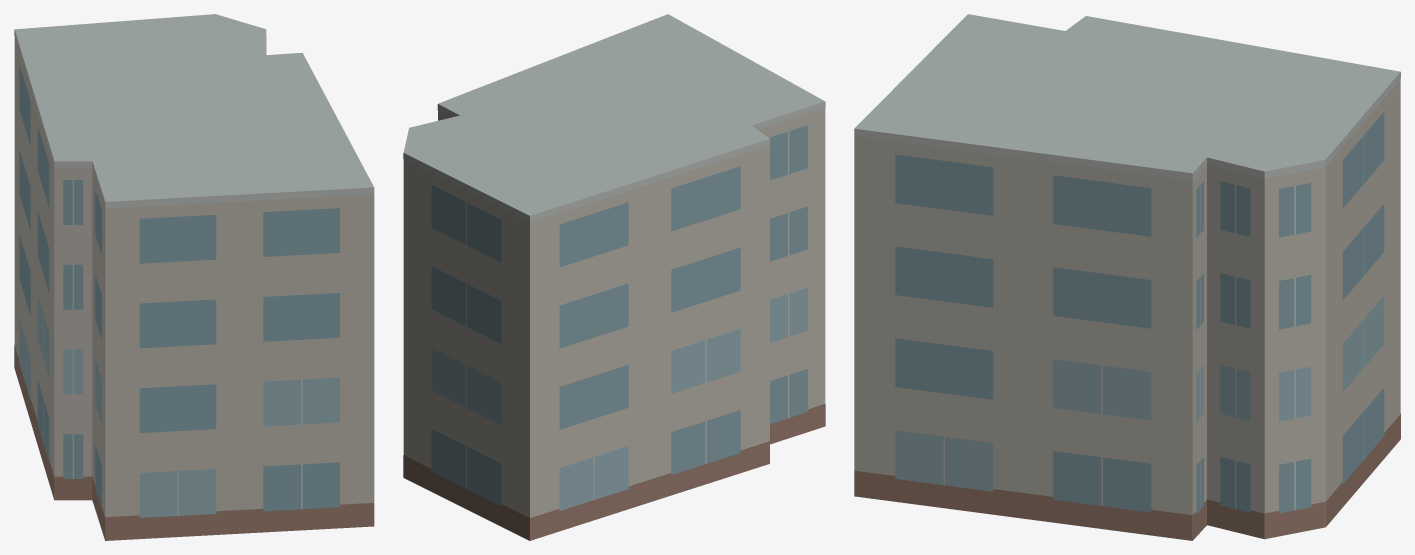
File: survey-upis-32596277.glb
3 renders of one model, left to right at view 1: azimuth 30°, elevation 25°; view 2: azimuth 150°, elevation 25°; view 3: azimuth 270°, elevation 25°, orthographic. The views are drawn at different scales.
Visible parts, largest first — view 1: survey-upis-32596277.tmp; view 2: survey-upis-32596277.tmp; view 3: survey-upis-32596277.tmp.
Boxes of the visible parts, x1=… form: survey-upis-32596277.tmp: x1=14, y1=14, x2=374, y2=540; survey-upis-32596277.tmp: x1=403, y1=14, x2=825, y2=540; survey-upis-32596277.tmp: x1=854, y1=14, x2=1400, y2=540.
Size of the model in its own units: 11.25 by 12.1 by 16.31.
